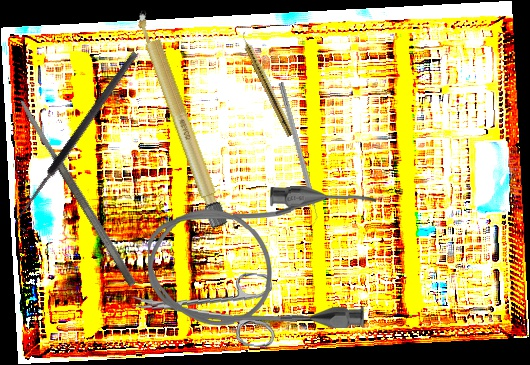Cannula: (146, 185, 379, 331)
Chopper: (270, 81, 323, 230)
Handpiece: (237, 30, 297, 138)
Hook Surgical: (10, 50, 148, 233)
Iris Scissors: (128, 262, 280, 349)
Scalpel Handle: (132, 6, 229, 230)
Spatula Surgical: (16, 97, 138, 288)
